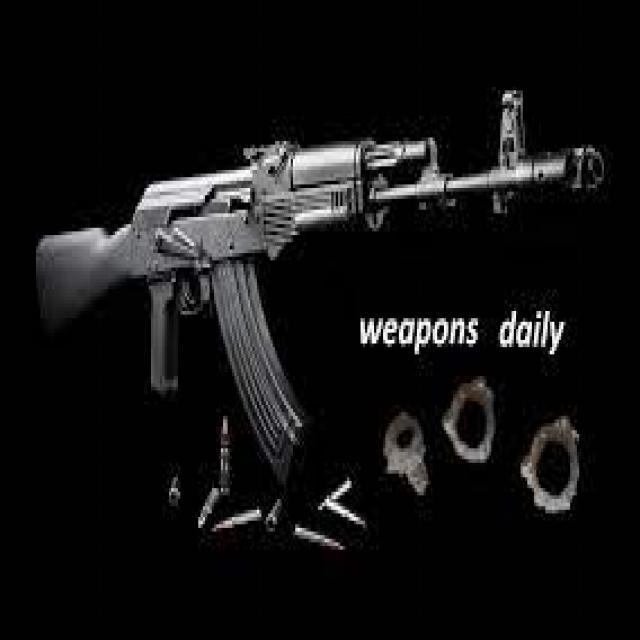weapon: (36, 91, 607, 488)
